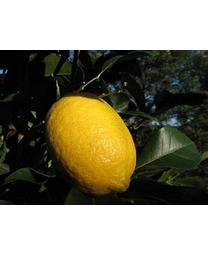lemon: (43, 92, 137, 196)
